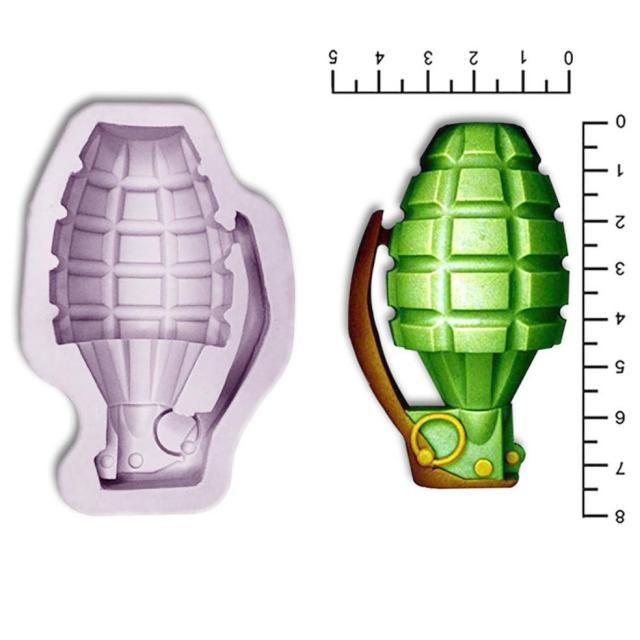grenade: (49, 120, 272, 491), (348, 124, 571, 491)
